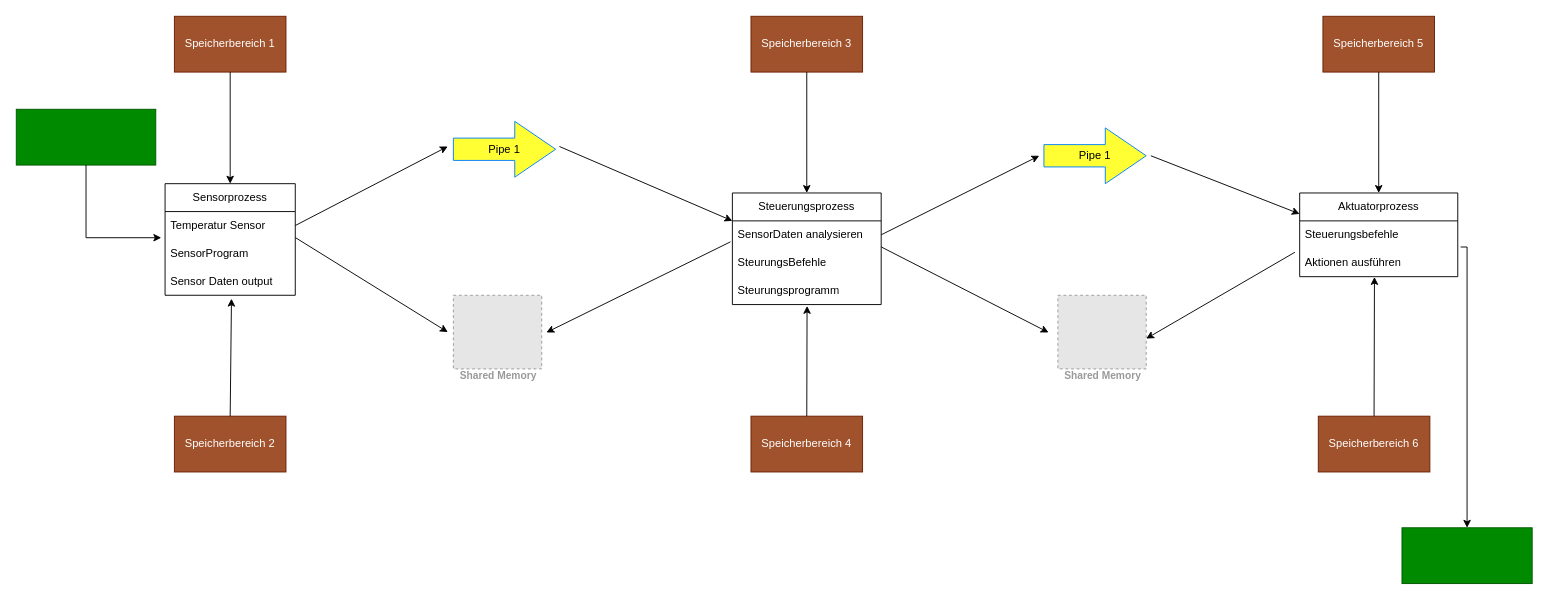
This 1548x600 diagram has some shape labels left out. Grey dashed boxes stand in for pictures. Each missing label, with the centre of its shape:
"STANDARD INPUT" belongs at (85,136).
"STANDARD OUTPUT" belongs at (1466,555).
